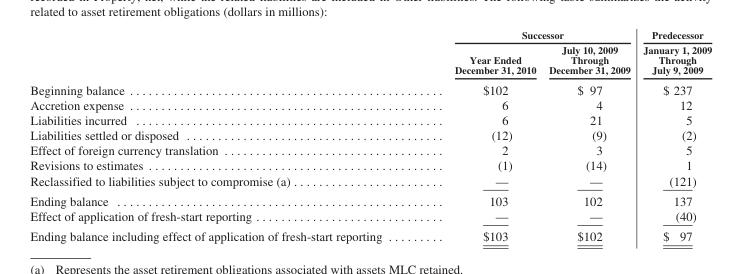table: (29, 28, 711, 242)
table column: (29, 28, 417, 242), (417, 28, 541, 242), (541, 28, 636, 242), (636, 28, 711, 242)
table column header: (29, 28, 711, 78)
table row: (29, 42, 711, 78), (29, 78, 711, 96), (29, 172, 711, 190), (29, 207, 711, 225), (29, 190, 711, 207), (29, 225, 711, 242), (29, 96, 711, 112), (29, 112, 711, 127), (29, 127, 711, 142), (29, 142, 711, 157), (29, 157, 711, 172), (29, 28, 711, 42)
table spanning cell: (636, 28, 711, 78), (417, 28, 636, 42)
